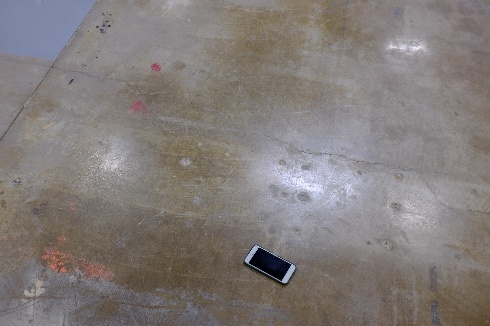phone: (243, 246, 292, 278)
